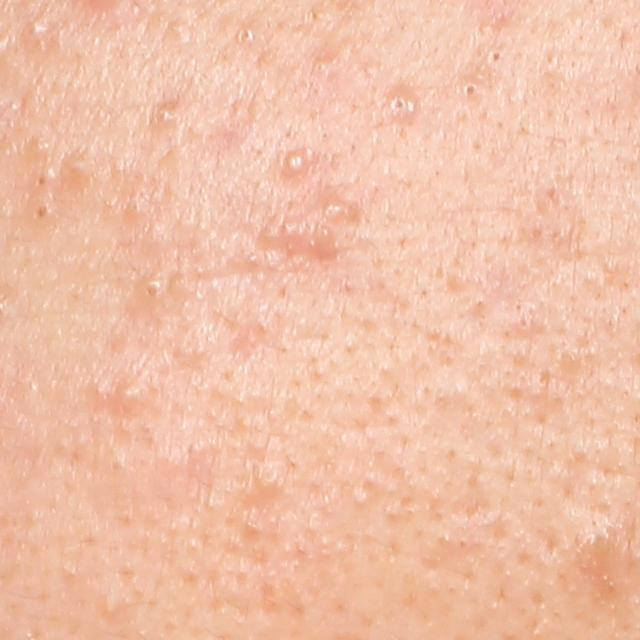atrophic_scar: (283, 186, 365, 228), (251, 227, 336, 259), (190, 257, 263, 289)
comedo: (585, 514, 635, 557), (96, 588, 135, 624), (380, 90, 415, 122), (131, 276, 162, 311), (61, 151, 92, 185), (24, 14, 55, 46), (122, 189, 152, 220), (256, 463, 286, 493), (164, 13, 192, 45), (31, 197, 58, 224), (457, 76, 482, 102), (234, 22, 259, 45), (31, 166, 55, 186), (155, 104, 177, 125), (323, 199, 344, 220), (485, 44, 503, 67)
pustule: (281, 148, 313, 182)
